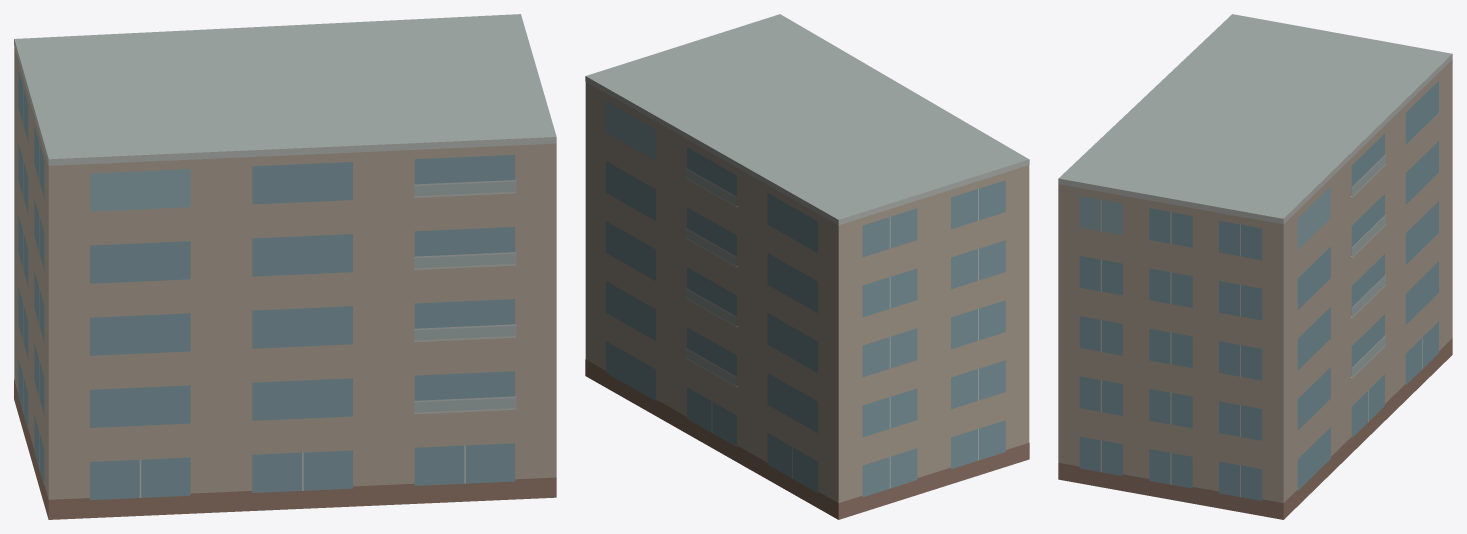
Rendered from survey-upis-32525357.glb.
3 renders of one model, left to right at view 1: azimuth 30°, elevation 25°; view 2: azimuth 150°, elevation 25°; view 3: azimuth 270°, elevation 25°, orthographic. The views are drawn at different scales.
Parts seen in each view (by area): view 1: survey-upis-32525357.tmp; view 2: survey-upis-32525357.tmp; view 3: survey-upis-32525357.tmp.
Boxes of the visible parts, box(x1,y1,x2,y2) form: survey-upis-32525357.tmp: box(14, 14, 556, 519); survey-upis-32525357.tmp: box(585, 14, 1029, 519); survey-upis-32525357.tmp: box(1058, 14, 1452, 519).
Size of the model in its own units: 19.27 by 13.2 by 15.67.
